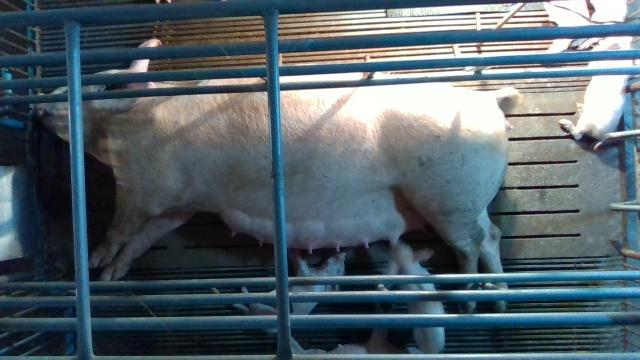piglet: (231, 252, 345, 335), (560, 36, 632, 150), (388, 239, 445, 352)
sow-sleep: (33, 38, 521, 310)
